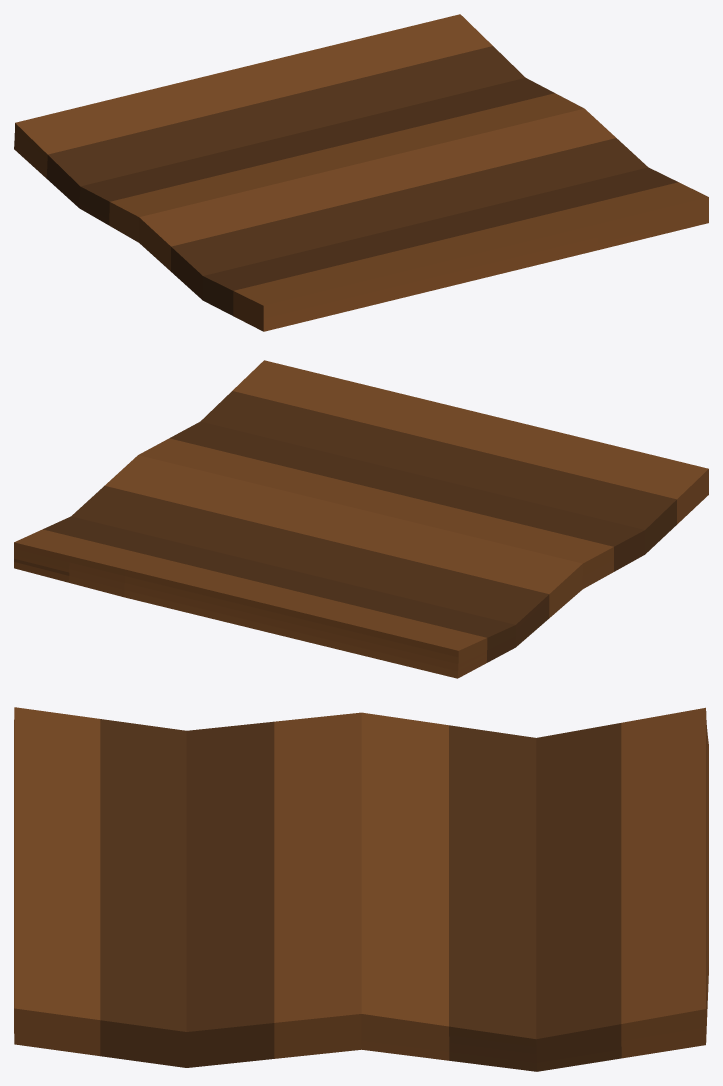
The model's file is soilWatered.fbx.
The picture shows the model from 3 angles, top to bottom: view 1: azimuth 30°, elevation 25°; view 2: azimuth 150°, elevation 25°; view 3: azimuth 270°, elevation 25°; orthographic projection. The views are drawn at different scales.
Visible parts, largest first — view 1: Cube; view 2: Cube; view 3: Cube.
Boxes of the visible parts, box(x1,y1,x2,y2) form: Cube: box(14, 14, 708, 331); Cube: box(14, 360, 708, 678); Cube: box(14, 707, 708, 1071).
Bounding box in the file's own units: 101 × 9.34 × 97.48.
